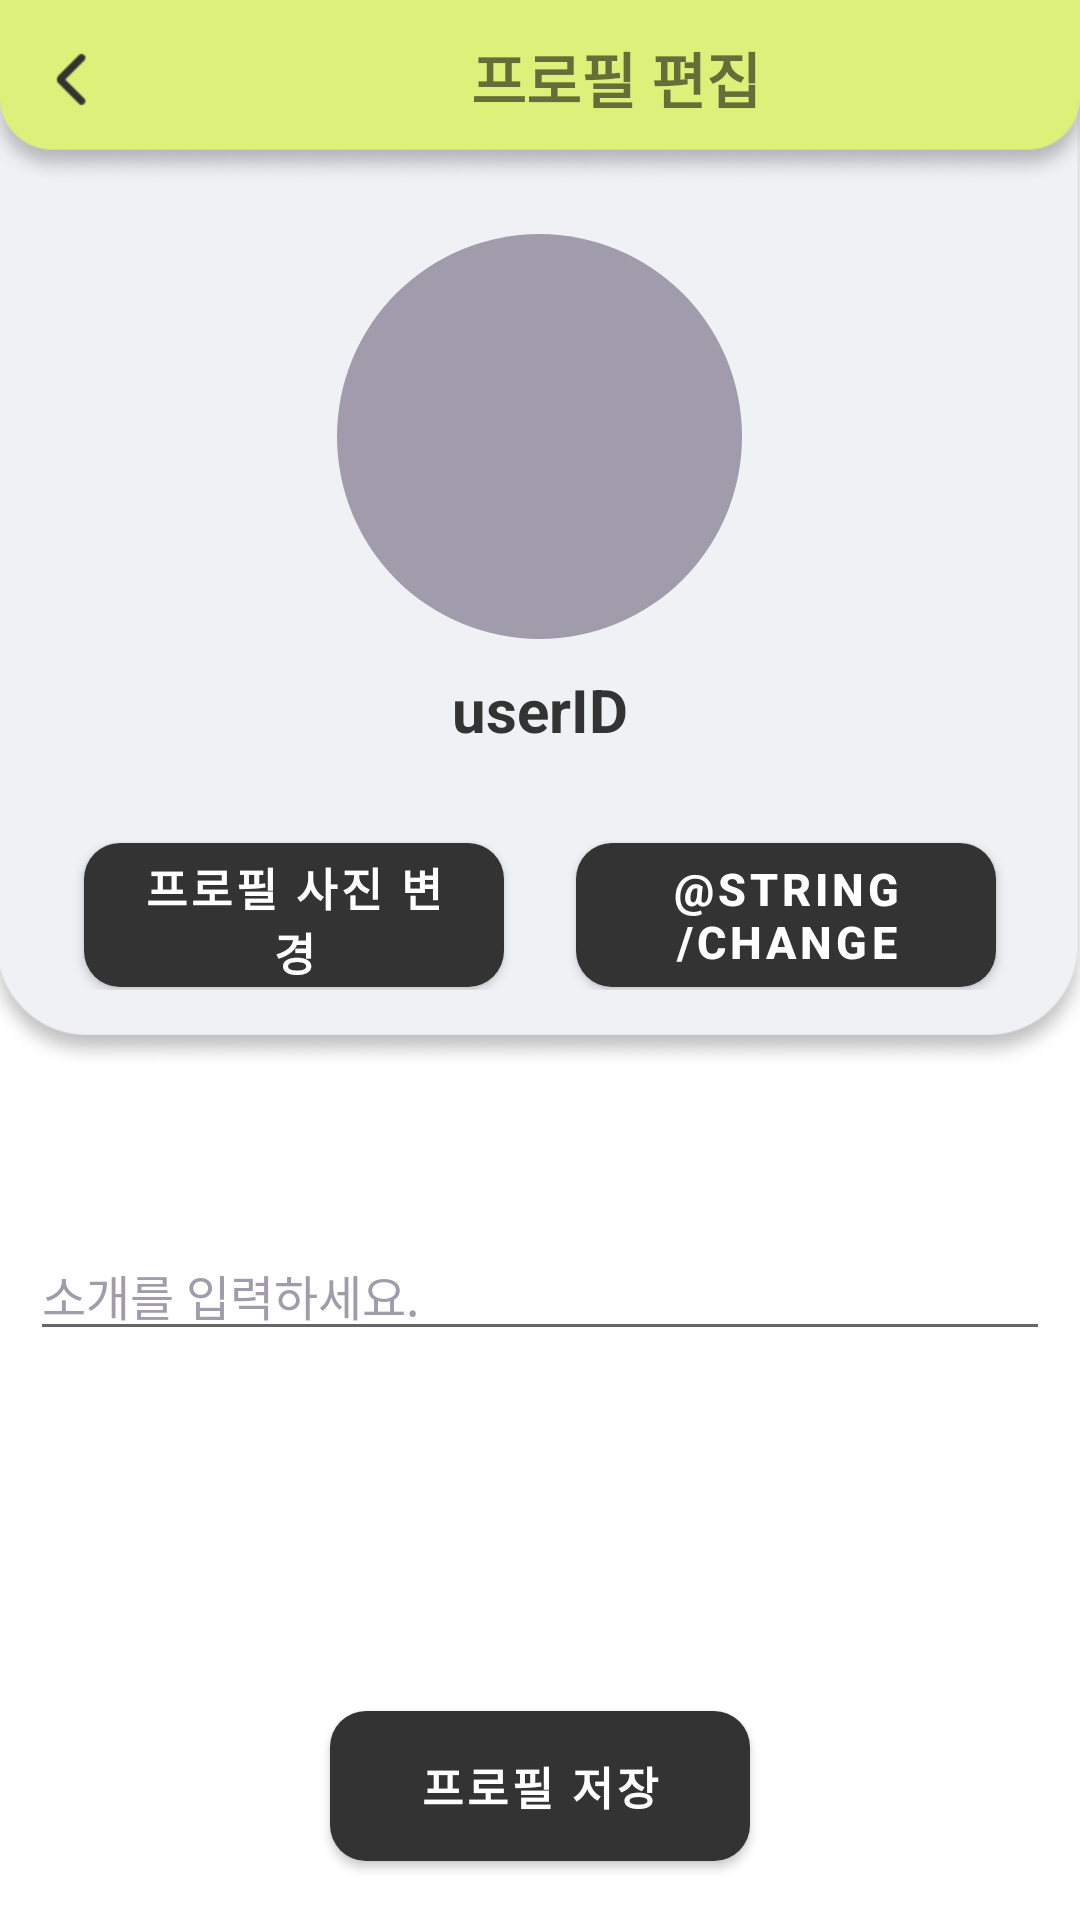

Screen size 1080*1920. Icon name, then its center in pixels as (x,y):
뒤로가기 버튼: (71,79)
